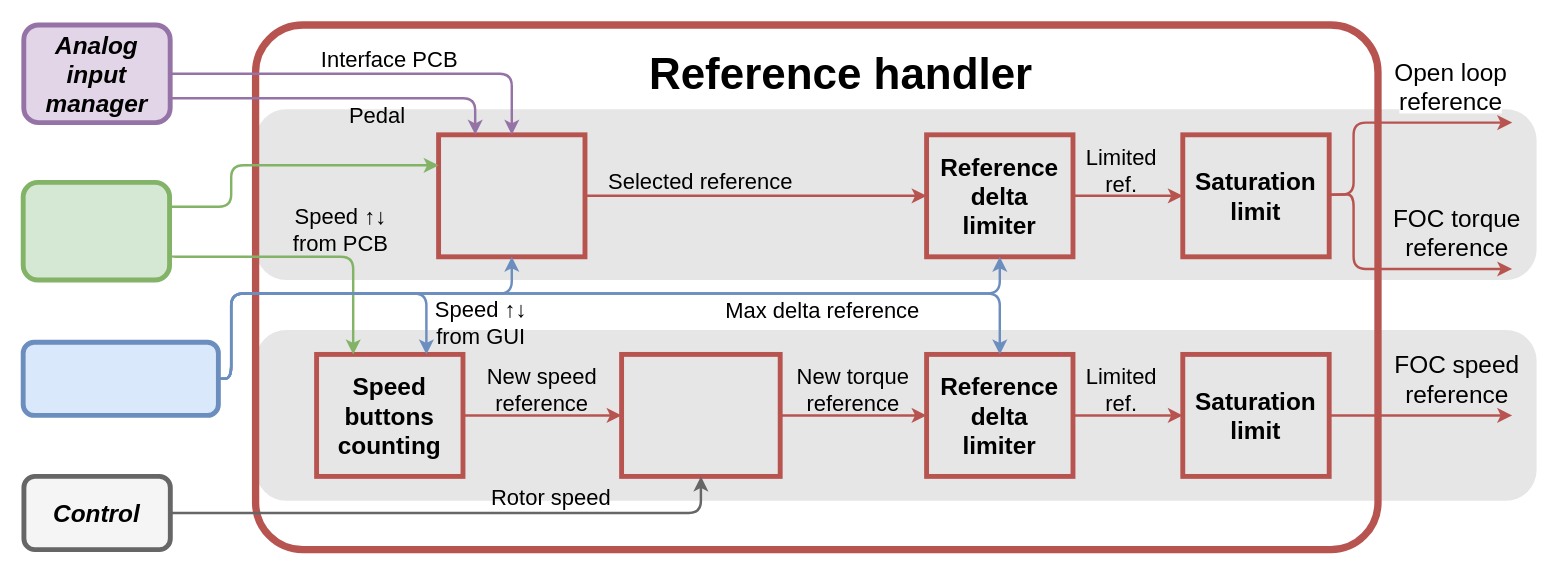
This 1558x573 diagram has some shape labels left out. Here are the shapes that lost their labels. From the top down, the centre of each, then its label:
At point (511, 195): "Reference selection".
At point (95, 230): "Digital Input manager".
At point (120, 378): "Communication manager".
At point (700, 414): "Reference calculation".
